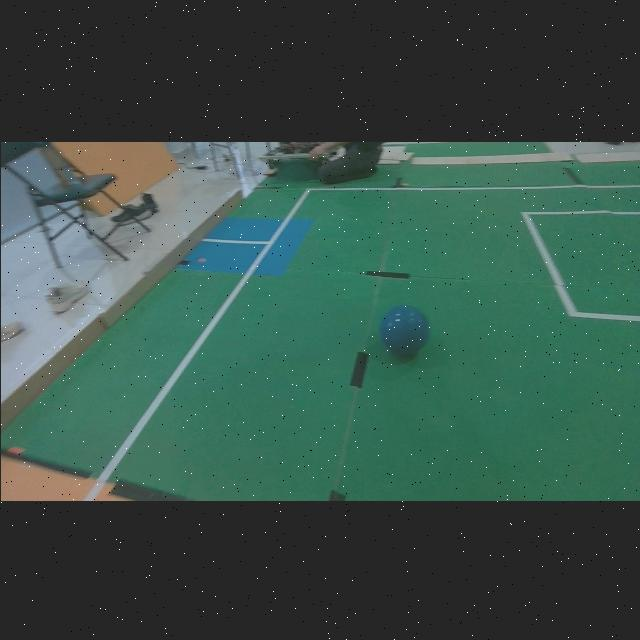B: (378, 304, 428, 354)
